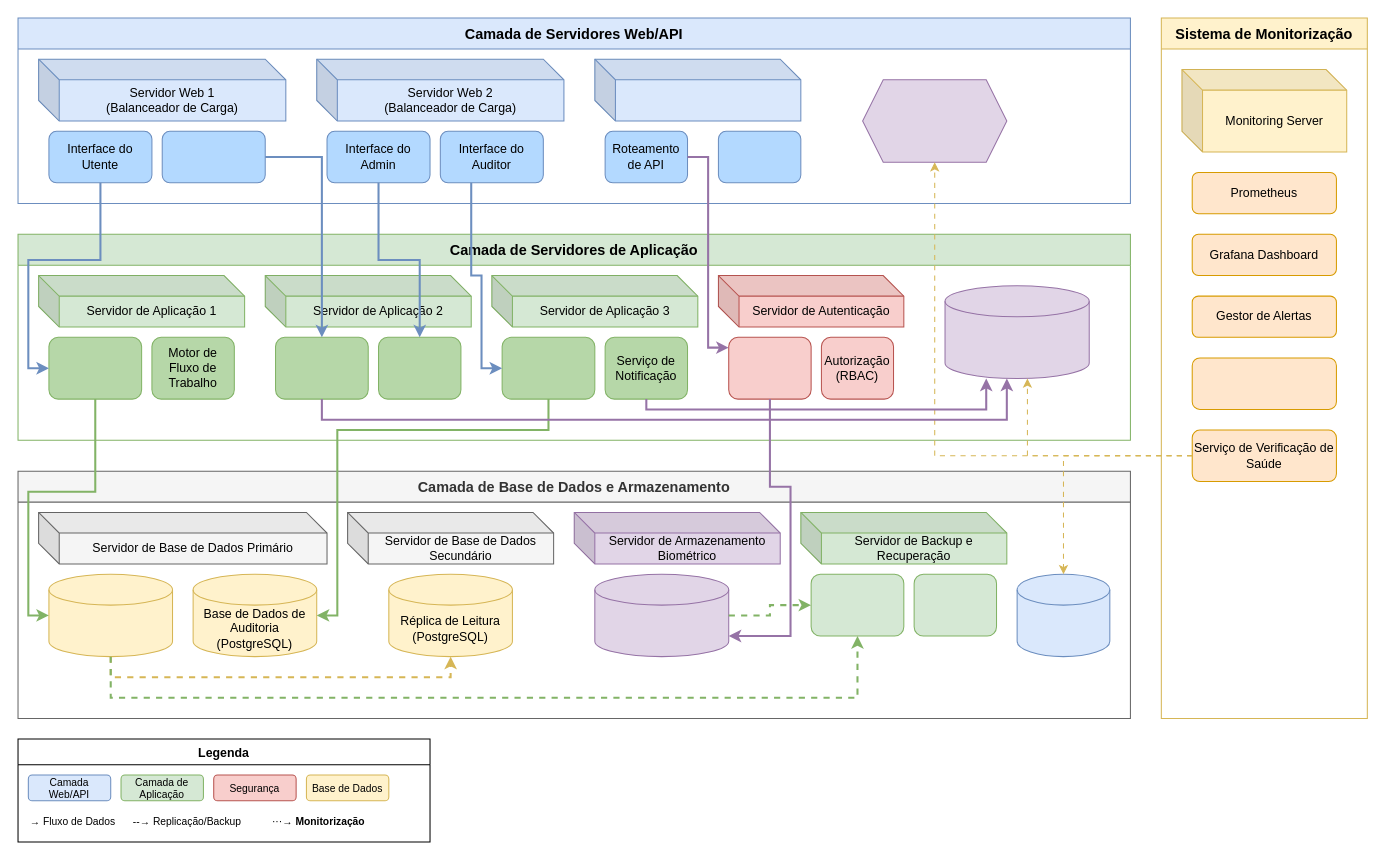
The diagram is 1385 pixels wide and 860 high, and some of its shapes have lost their labels. Each missing label, with the centre of its shape:
Agregador de Logs (Stack ELK): point (1263, 383)
Armazenamento de Dados Biométricos (Criptografado): point (661, 615)
Balanceador de Carga (HAProxy/Nginx): point (934, 120)
Base de Dados Principal (PostgreSQL): point (110, 615)
Fila de Mensagens (RabbitMQ/Kafka): point (1016, 332)
Gestão de Filas: point (321, 367)
Interface do Operador: point (213, 156)
Limitação de Taxa: point (759, 156)
Motor de Lógica de Negócio: point (95, 367)
Motor de Regras de SLA: point (419, 367)
Recuperação de Desastres: point (955, 604)
Servidor de Cache (Cluster Redis): point (1063, 615)
Servidor de Gateway API: point (697, 89)
Serviço de Autenticação: point (769, 367)
Serviço de Backup (Incremental): point (857, 604)
Serviço de Eventos de Auditoria: point (548, 367)
